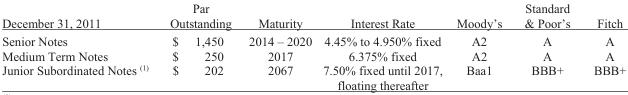table: (1, 1, 625, 91)
table column: (1, 1, 158, 91), (316, 1, 448, 91), (158, 1, 239, 91), (239, 1, 316, 91), (512, 1, 581, 91), (448, 1, 512, 91), (581, 1, 625, 91)
table column header: (1, 1, 625, 31)
table row: (1, 1, 625, 31), (1, 31, 625, 48), (1, 62, 625, 77), (1, 48, 625, 62), (1, 77, 625, 91)
